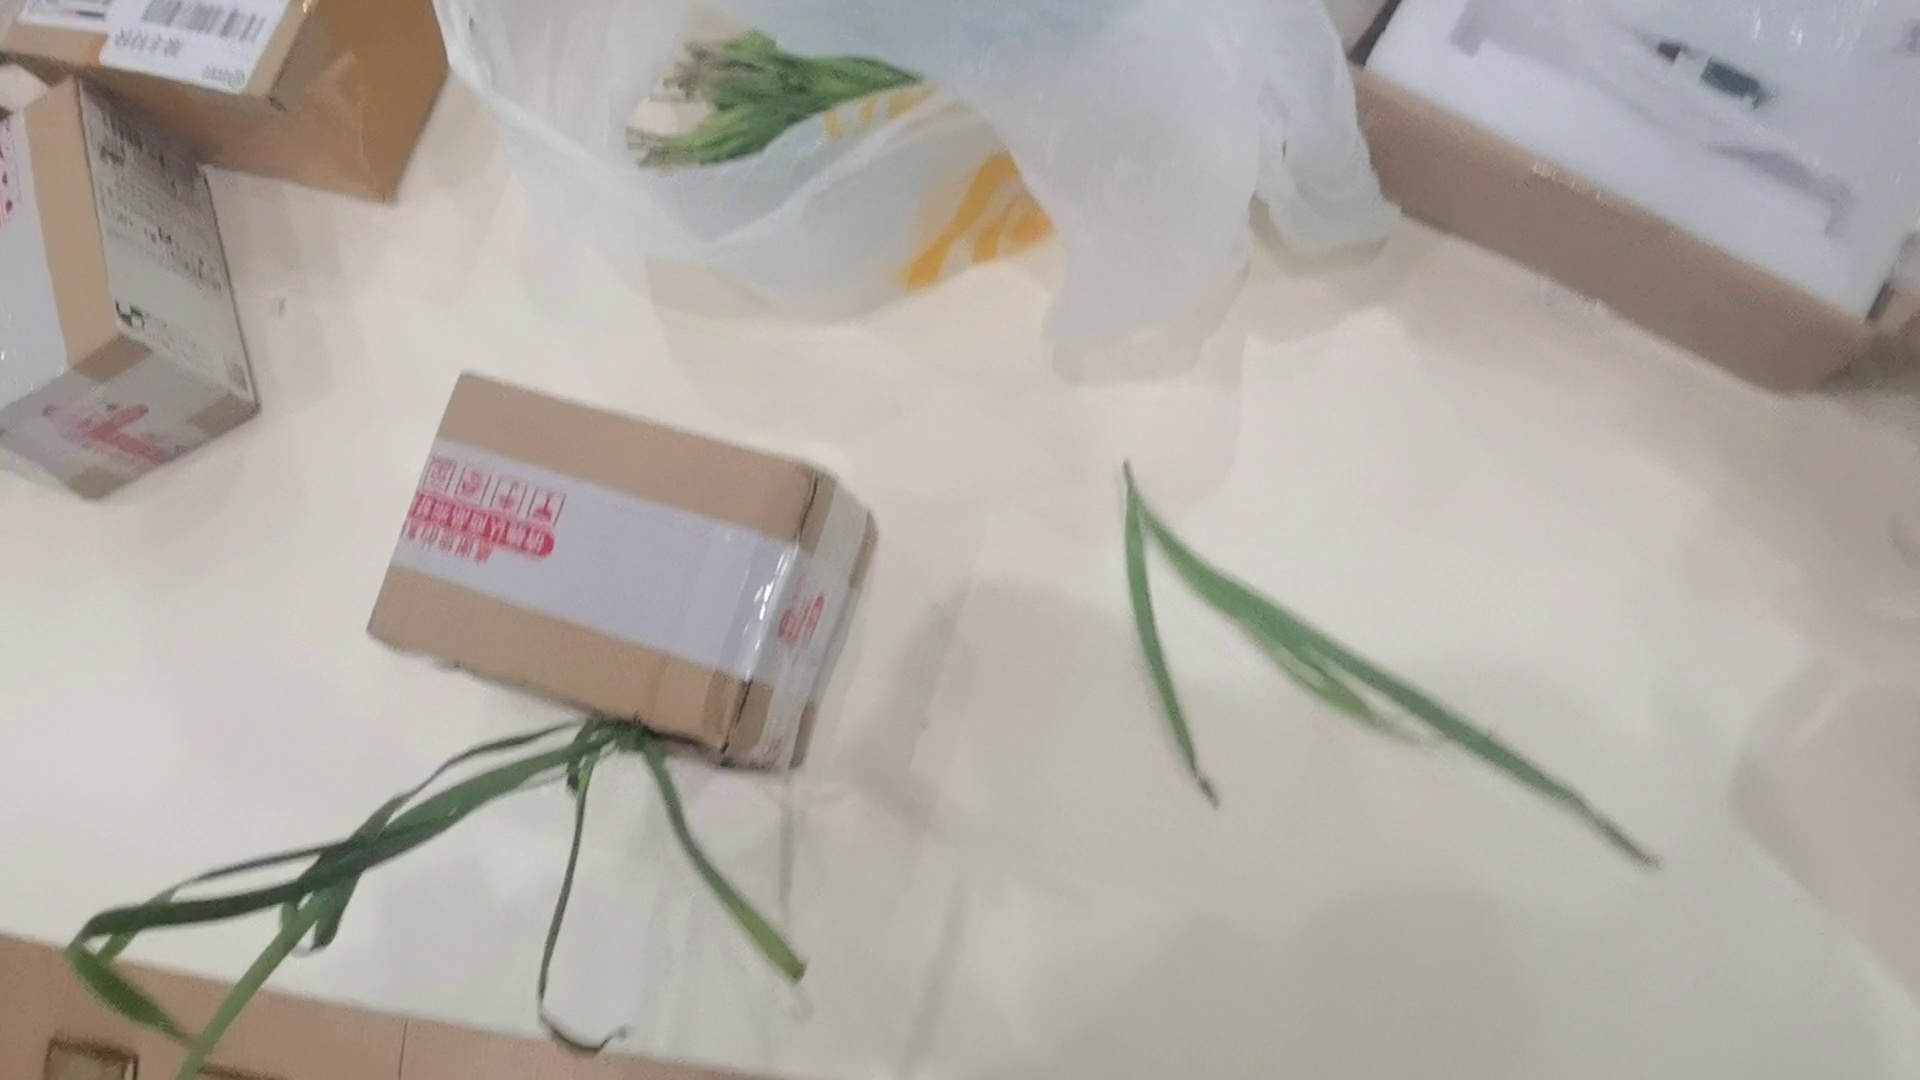chives: (7, 679, 827, 1080), (1106, 452, 1669, 869)
